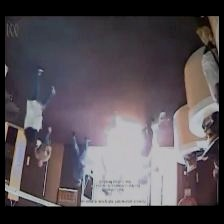fire: (102, 111, 158, 181)
